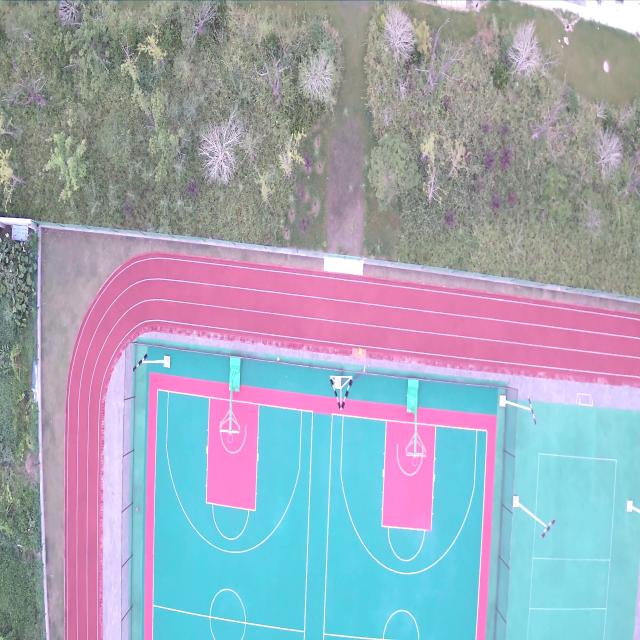UAV: (361, 361, 369, 378)
